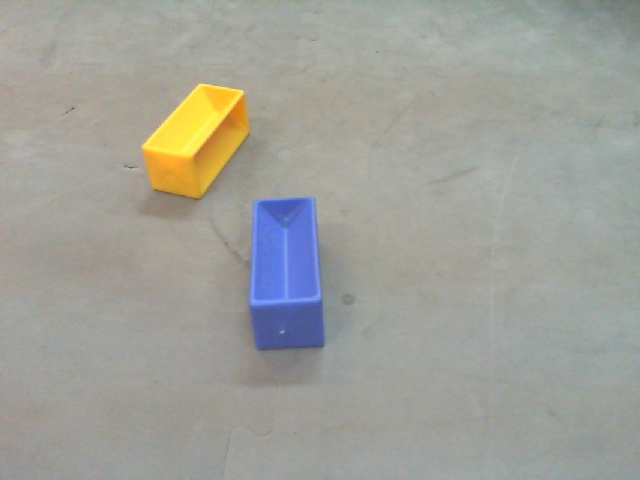BlueSample: (248, 198, 334, 353)
YellowSample: (130, 80, 252, 200)
